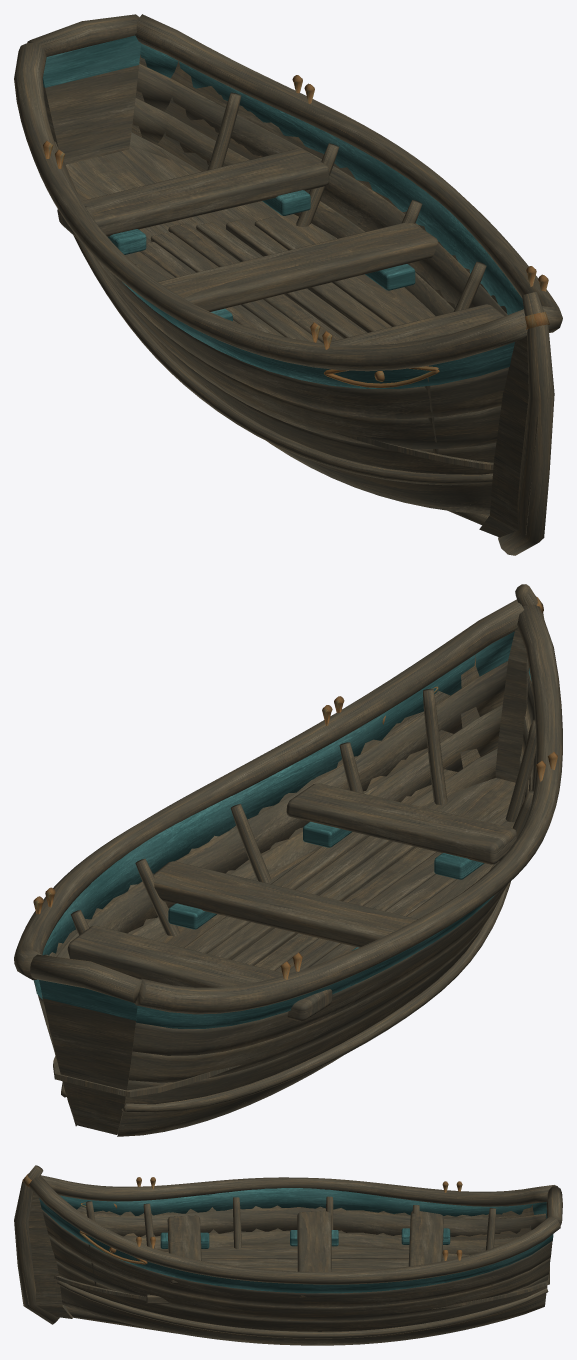
Rendered from boat.glb.
3 renders of one model, top to bottom at view 1: azimuth 30°, elevation 25°; view 2: azimuth 150°, elevation 25°; view 3: azimuth 270°, elevation 25°, orthographic. The views are drawn at different scales.
Visible parts, largest first — view 1: Aged oak mesh, Painted oak mesh, Hammered bronze mesh; view 2: Aged oak mesh, Painted oak mesh, Hammered bronze mesh; view 3: Aged oak mesh, Painted oak mesh, Hammered bronze mesh.
Boxes of the visible parts, <box> form: Aged oak mesh: <box>14,14,562,555</box>; Painted oak mesh: <box>42,35,523,388</box>; Hammered bronze mesh: <box>43,75,549,387</box>; Aged oak mesh: <box>14,584,562,1136</box>; Painted oak mesh: <box>34,631,531,1028</box>; Hammered bronze mesh: <box>33,596,557,979</box>; Aged oak mesh: <box>14,1165,562,1345</box>; Painted oak mesh: <box>39,1188,553,1293</box>; Hammered bronze mesh: <box>22,1174,462,1264</box>.
Size of the model in its own units: 1.52 by 1.28 by 3.61.
3 materials, 3 textured.
